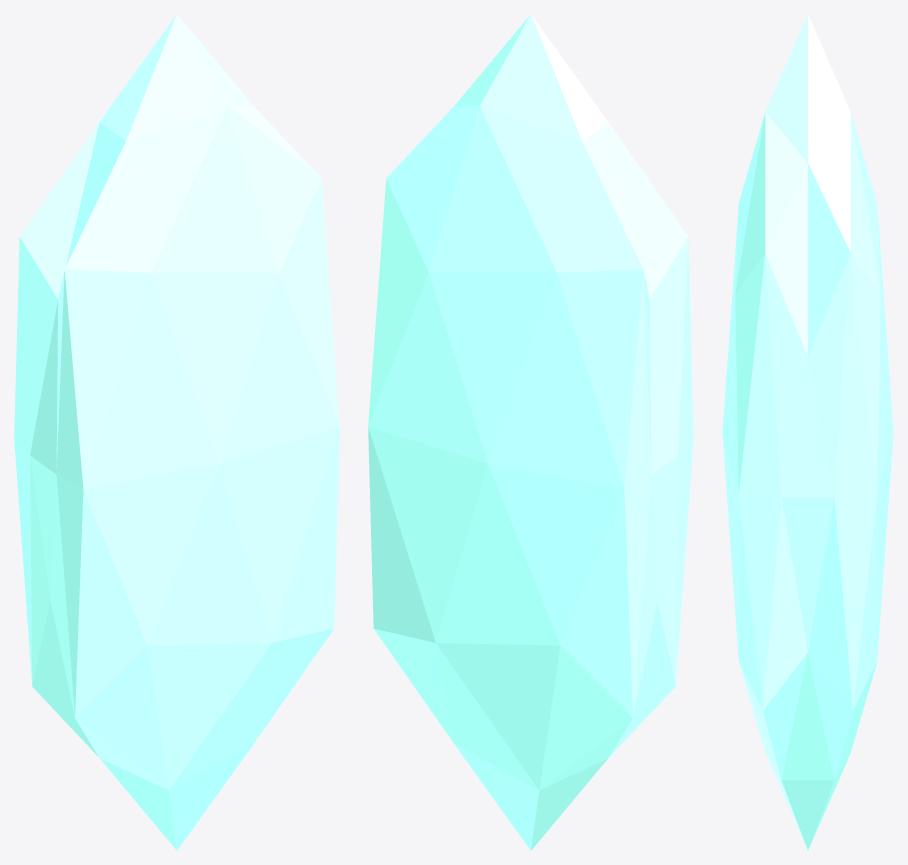
File: scarab queen gemstone.fbx
3 renders of one model, left to right at view 1: azimuth 30°, elevation 25°; view 2: azimuth 150°, elevation 25°; view 3: azimuth 270°, elevation 25°, orthographic.
Parts seen in each view (by area): view 1: Icosphere; view 2: Icosphere; view 3: Icosphere.
Part boxes in pixels (<box>): Icosphere: <box>14,14,339,850</box>; Icosphere: <box>368,14,693,850</box>; Icosphere: <box>722,14,893,850</box>.
Bounding box in the file's own units: 12.98 × 38.47 × 7.13.
